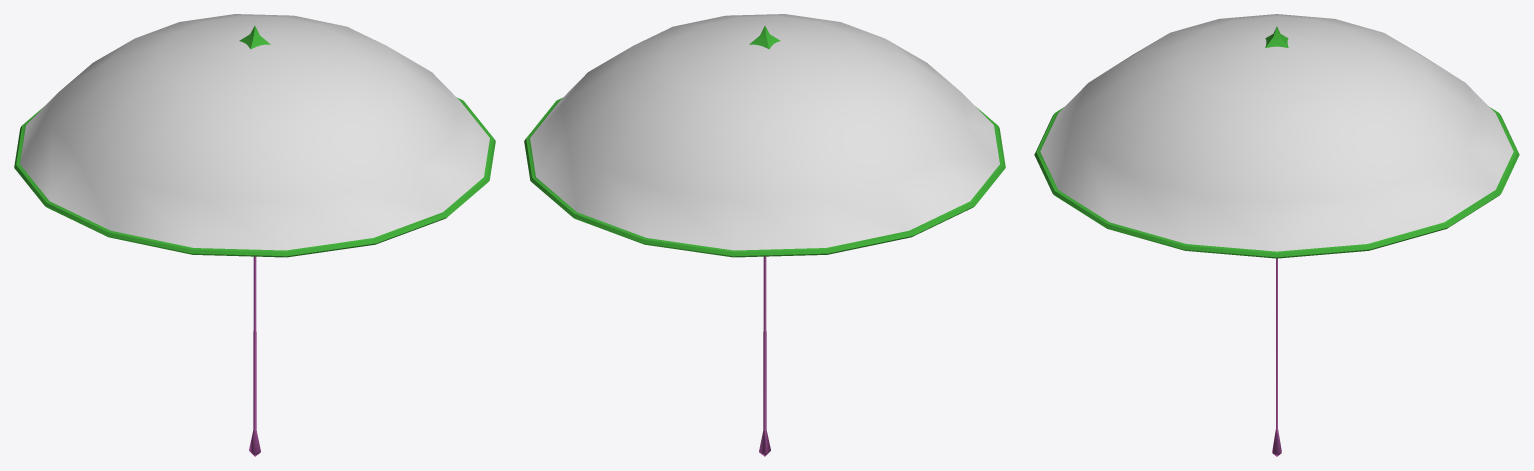
3 views of the same model, side by side, from view 1: azimuth 30°, elevation 25°; view 2: azimuth 150°, elevation 25°; view 3: azimuth 270°, elevation 25° (orthographic).
Parts seen in each view (by area): view 1: MD530; view 2: MD530; view 3: MD530.
Boxes of the visible parts, <box> form: MD530: <box>14,14,495,456</box>; MD530: <box>524,14,1005,456</box>; MD530: <box>1034,14,1519,456</box>.
Size of the model in its own units: 53.87 by 53.87 by 52.8.
